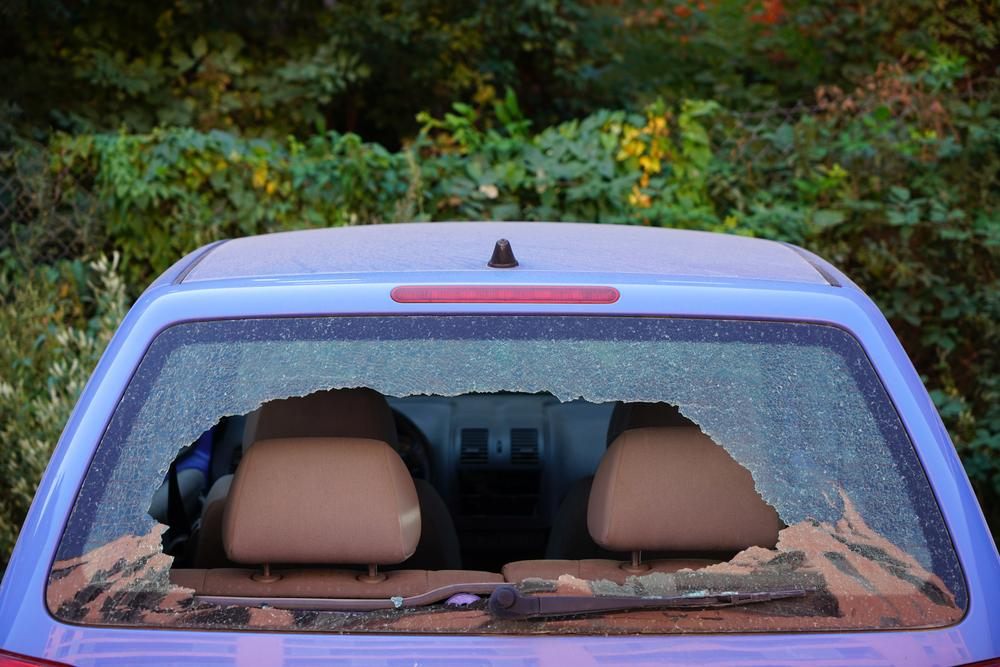glass shatter: (46, 314, 967, 634)
